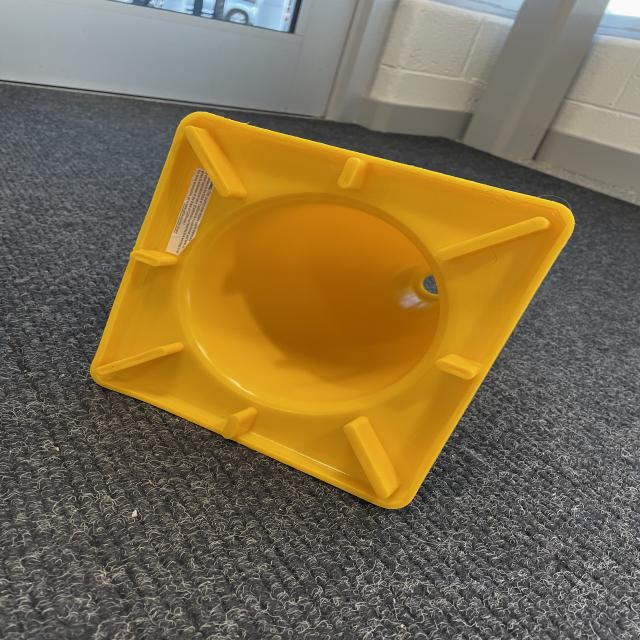frc_cone: (96, 103, 578, 511)
